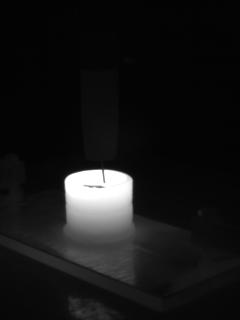tip_wire_left: (86, 157, 106, 186)
tip_wire_right: (103, 156, 117, 186)
